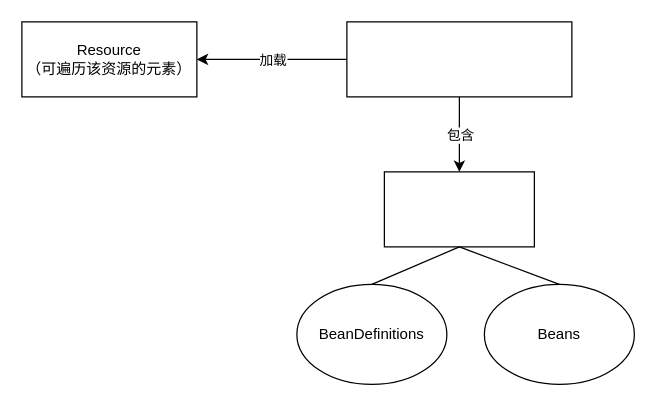
This 656x406 diagram has some shape labels left out. Here are the shapes that lost their labels. From the top down, the centre of each, then its label:
the point at 459,59: ResourceElementReader
the point at 458,209: BeanFactory
